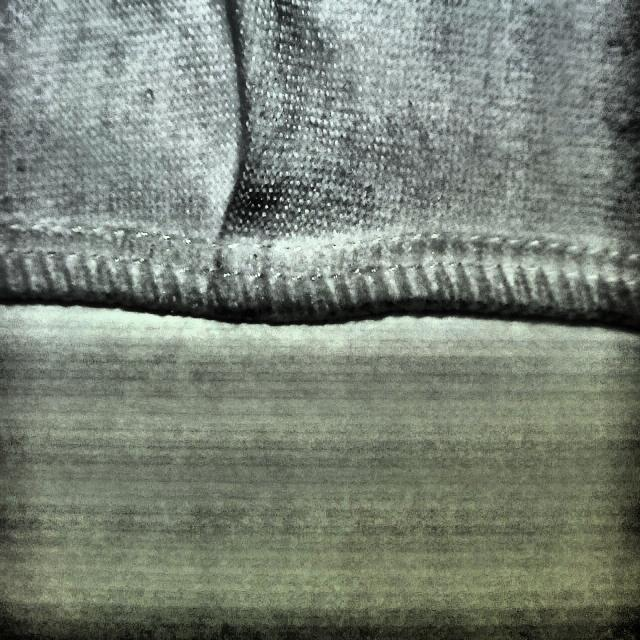seam: (175, 63, 311, 324)
